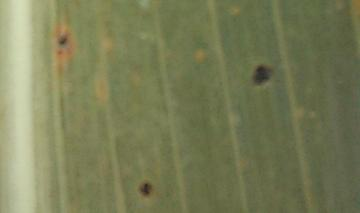tarspot: (253, 64, 273, 88), (139, 182, 152, 197), (57, 37, 68, 46), (57, 49, 63, 56)
